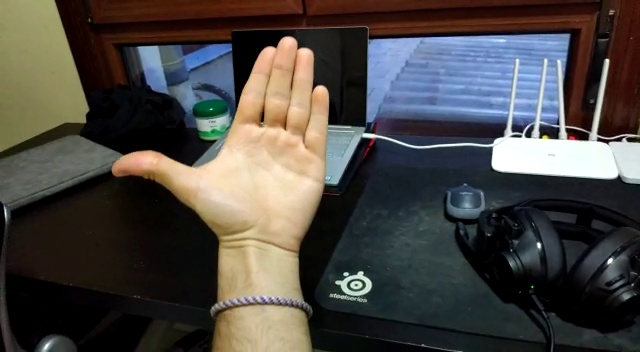Palm: (110, 29, 333, 276)
